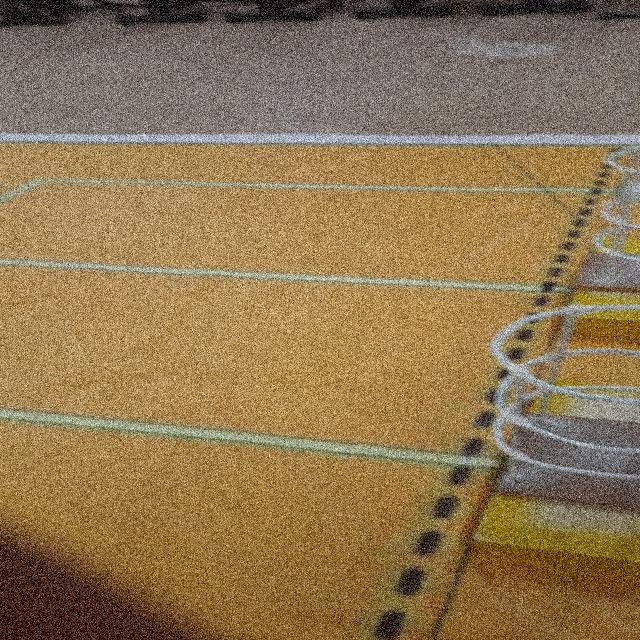silo: (462, 288, 640, 513)
